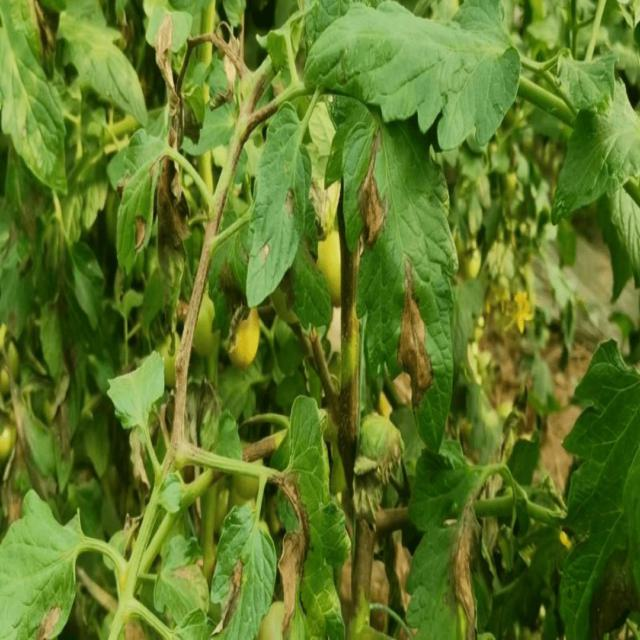Late_blight: (141, 12, 191, 277), (392, 252, 441, 405), (270, 472, 312, 638), (2, 421, 56, 526), (450, 478, 483, 639), (352, 424, 403, 519), (354, 127, 388, 251), (214, 555, 246, 639), (216, 26, 243, 105), (33, 604, 64, 640)
